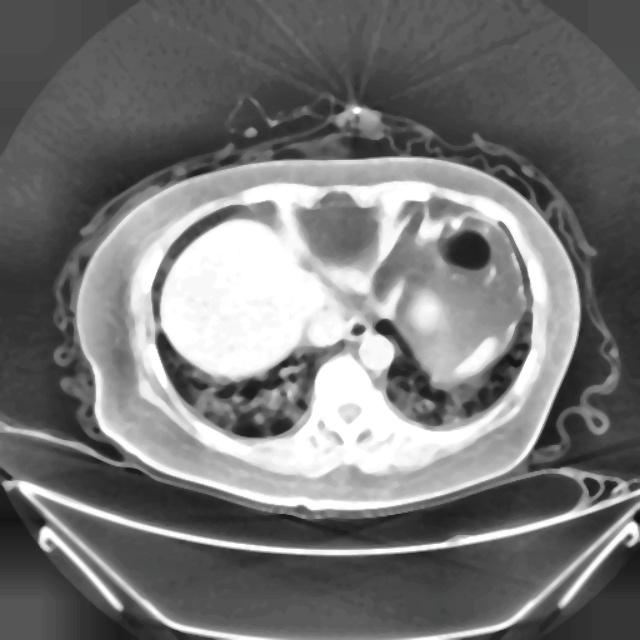covid: (52, 98, 597, 521)
